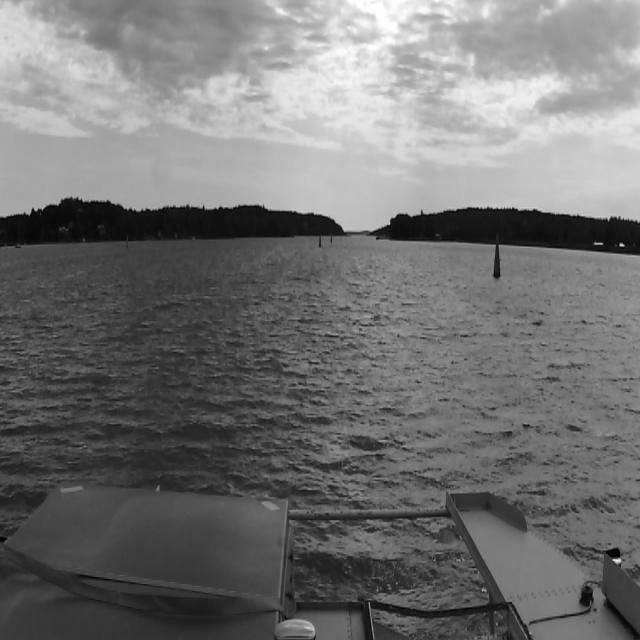buoy: (492, 235, 502, 278), (124, 232, 128, 250), (318, 232, 321, 249), (329, 233, 332, 243)
